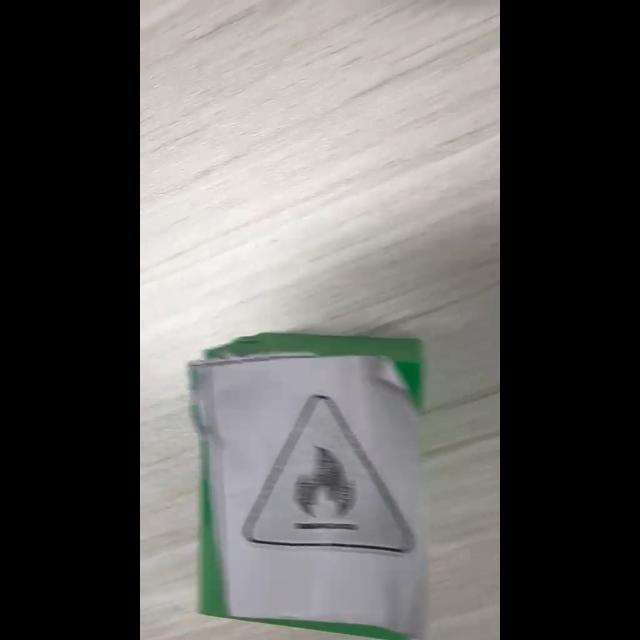Fire: (243, 395, 414, 553)
